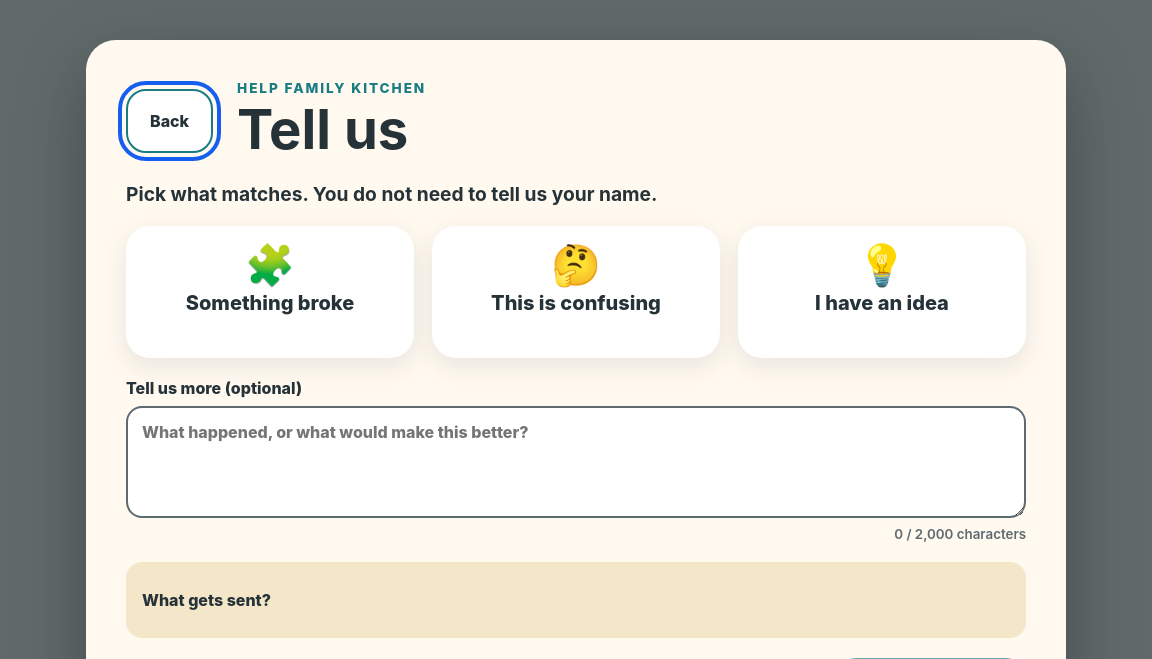
Test: dashboard feedback screen › announces a truthful rate-limited result
The width and height of the screenshot is (1152, 659).
Click the button "💡 I have an idea" at x=882, y=292, box [738, 226, 1026, 358]
(page scrolled)
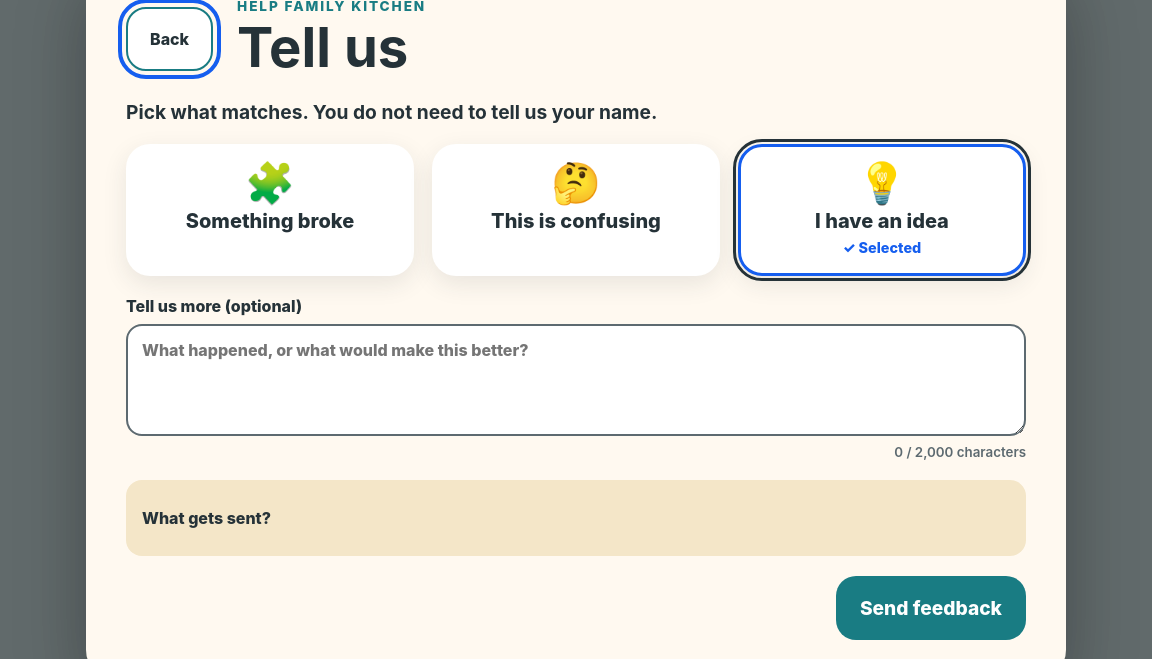
Click the button "Send feedback" at x=931, y=608, box [836, 576, 1026, 640]
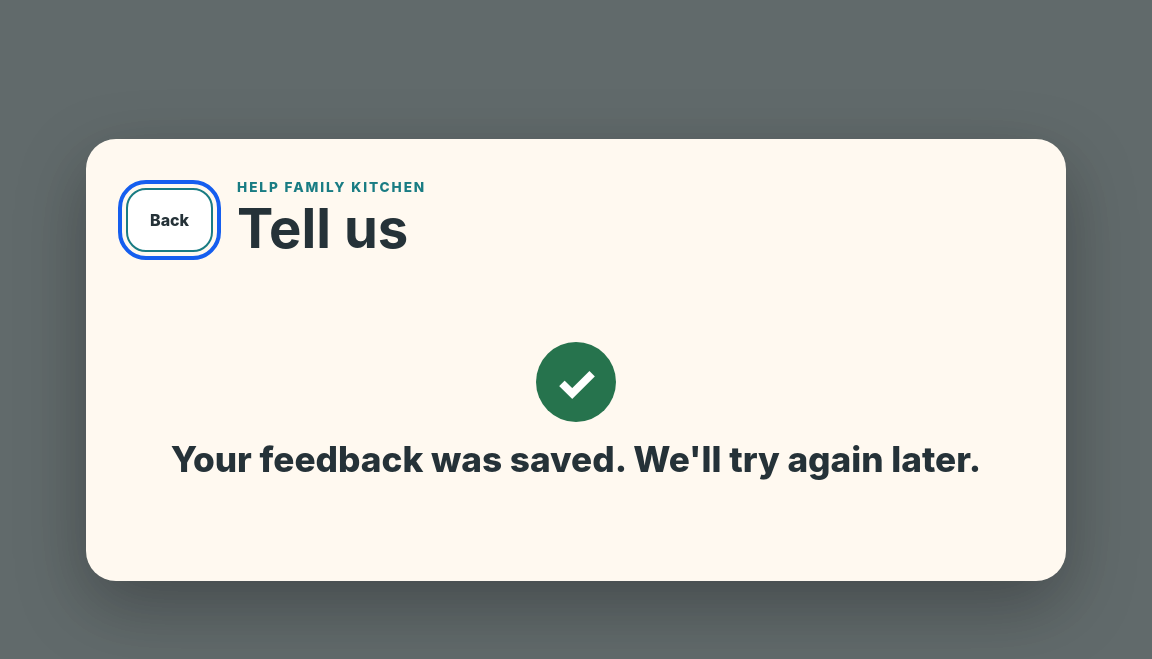
Expected: the text "Your feedback was saved. We'll try again later." is shown, [171, 438, 981, 480]
